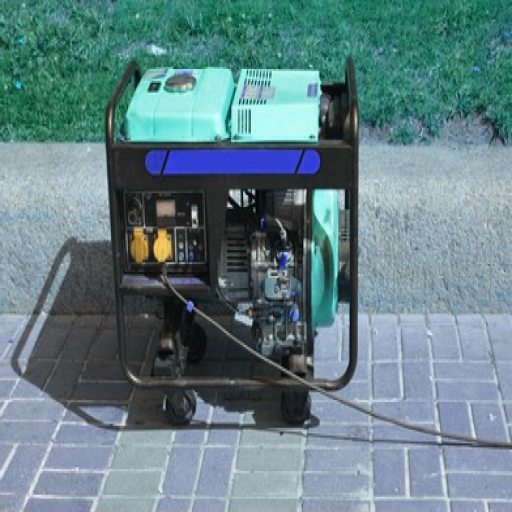portable_generator: (104, 60, 360, 392)
